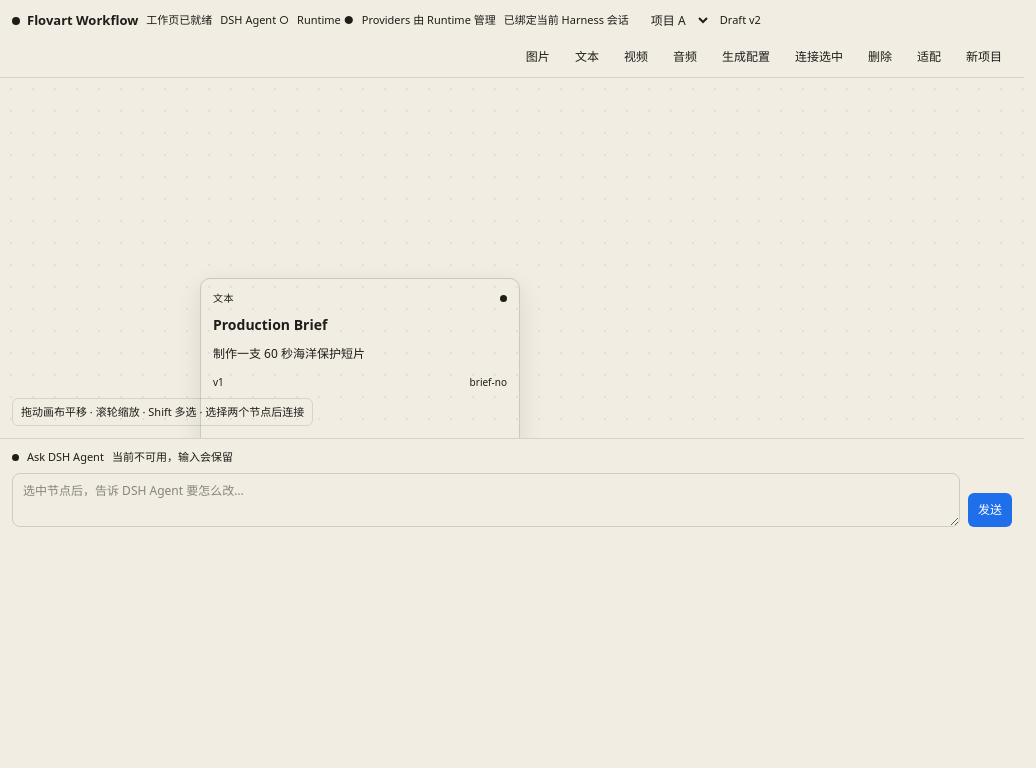
Test: DeepSeek Harness native Workflow view › makes switching the current Harness Session to another project an explicit Handoff
The image size is (1036, 768).
Select "项目 B" in the dropdown named "选择 Workflow 项目" at [674, 20], box [637,6,712,35]
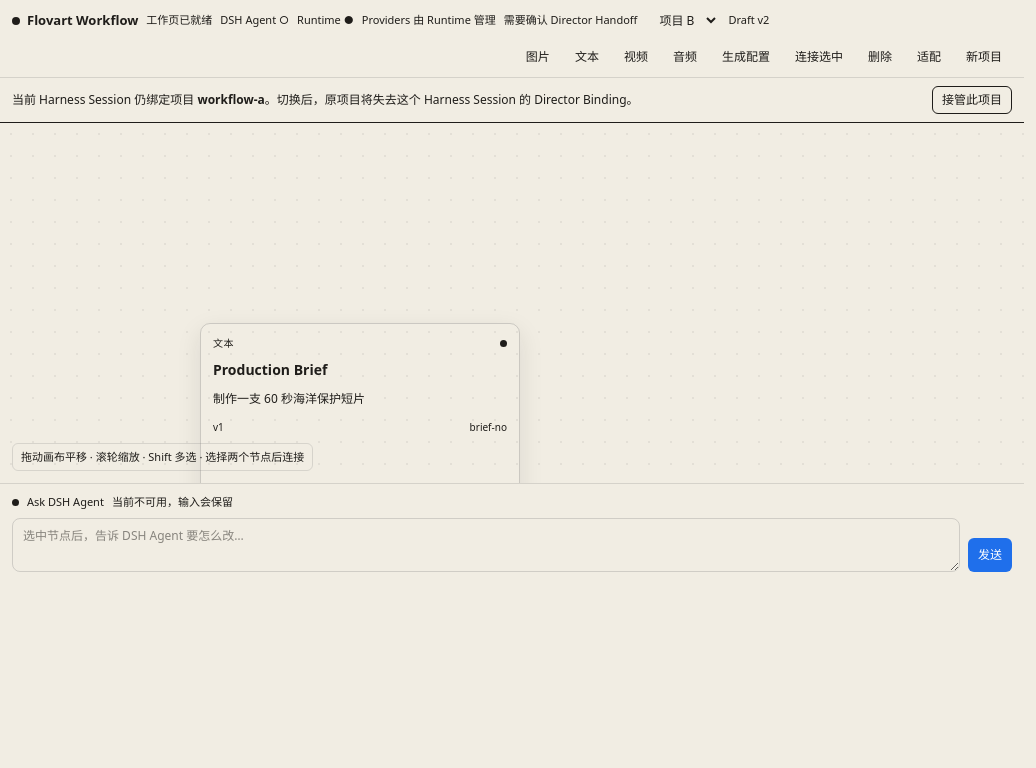
Expected: the message shows "workflow-a", [197,91,265,108]
Expected: the message shows "切换后，原项目将失去这个 Harness Session 的 Director Binding", [265,91,638,108]
Click the button "接管此项目" at [972, 100], box [932,86,1012,114]
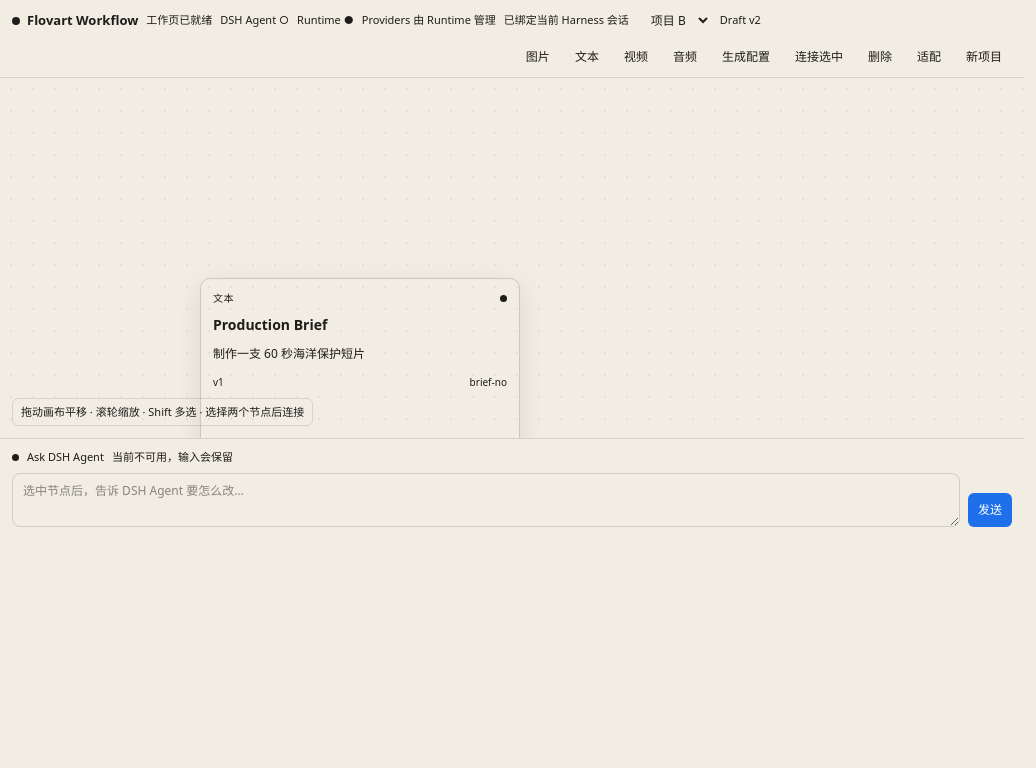
Expected: the message is gone
Expected: the text "已绑定当前 Harness 会话" is shown, [504,12,629,29]
